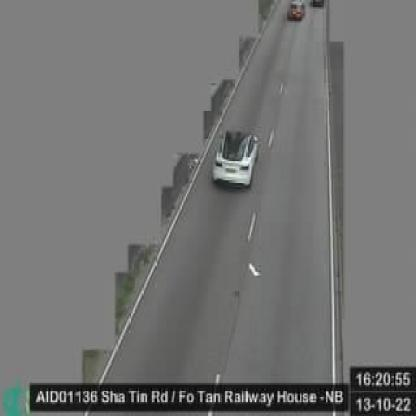Car: (209, 125, 259, 188), (288, 0, 306, 20)
